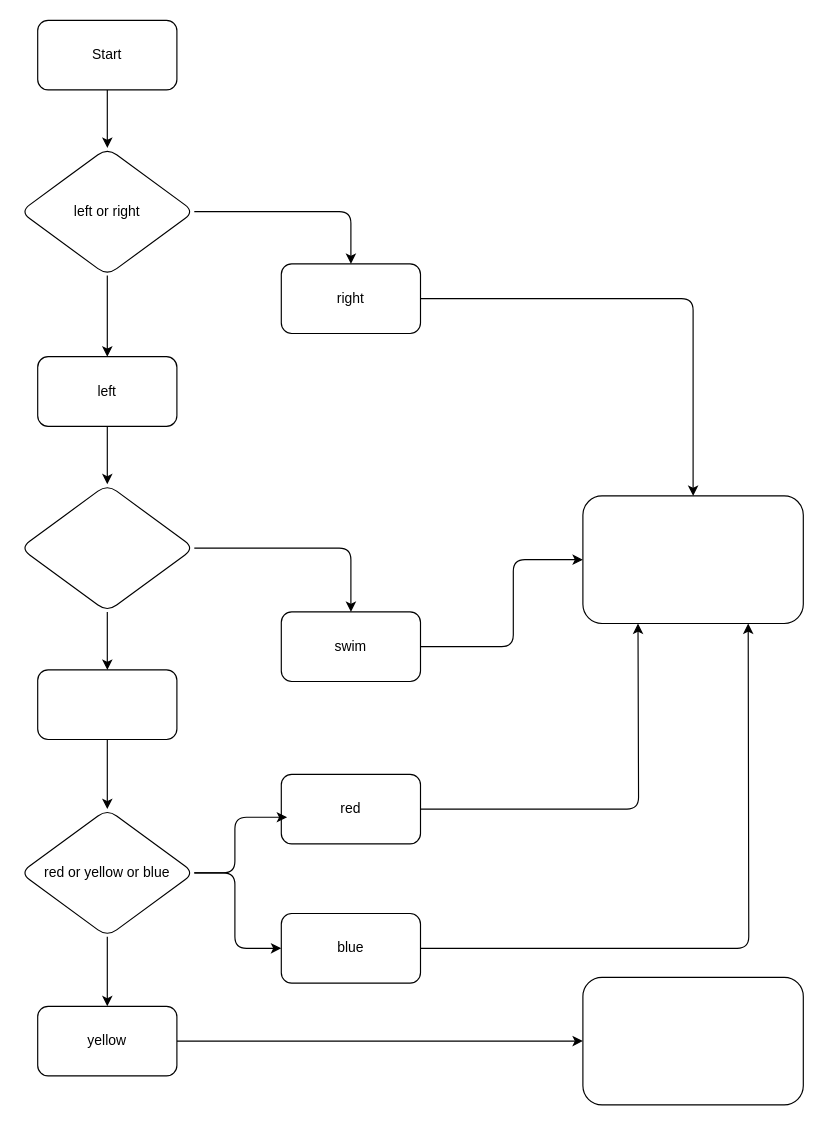
This 824x1125 diagram has some shape labels left out. Each missing label, with the centre of its shape:
"Game Over!" belongs at [692,559].
"swim or wait" belongs at [106,547].
"wait" belongs at [107,704].
"Win!" belongs at [692,1040].
